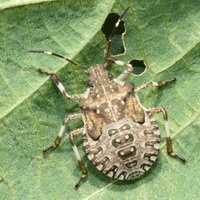insect: (91, 0, 199, 199)
